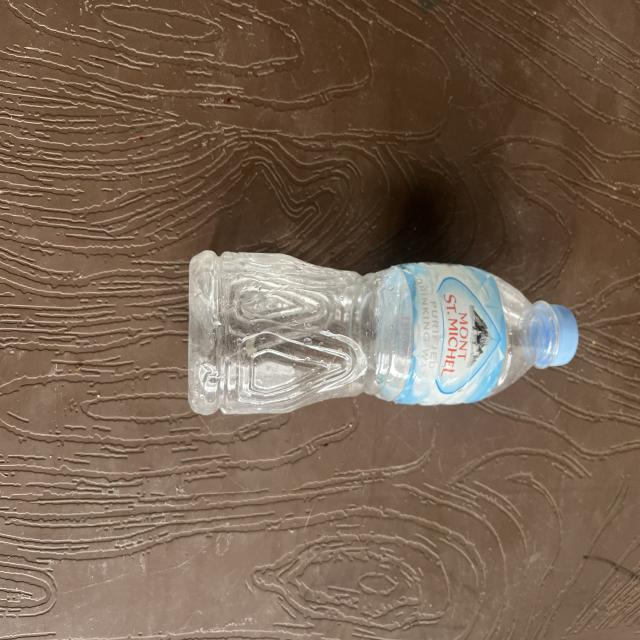REJECT: (186, 248, 590, 604)
